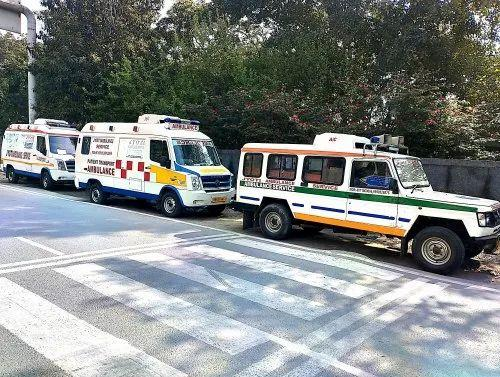ER: (237, 132, 500, 273), (75, 113, 236, 219), (1, 118, 77, 192)
